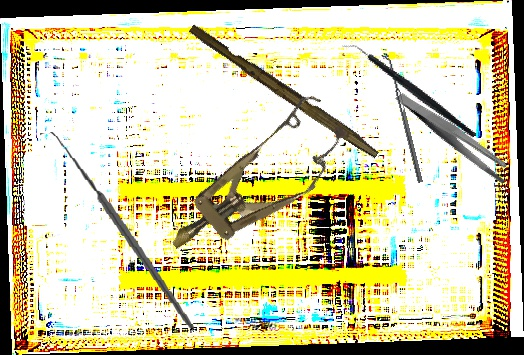Chopper: (341, 10, 477, 171)
Dressing Forceps: (395, 69, 514, 204)
Hook Surgical: (40, 121, 194, 340)
Scalpel Handle: (185, 23, 384, 159)
Spatula Surgical: (381, 52, 423, 185)
Speculum: (148, 87, 362, 278)
